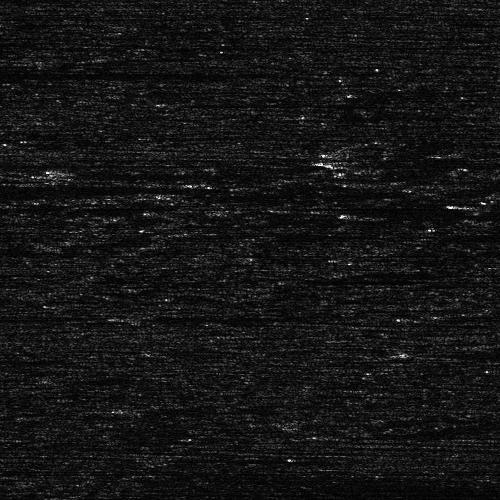object: (309, 158, 392, 163), (37, 169, 78, 178), (411, 349, 452, 356), (107, 312, 160, 317), (438, 150, 479, 155)
shadow: (0, 169, 195, 206), (0, 62, 298, 79), (134, 312, 347, 317), (351, 158, 500, 163), (58, 169, 127, 178), (432, 349, 500, 356), (458, 150, 500, 155), (0, 0, 108, 1)
